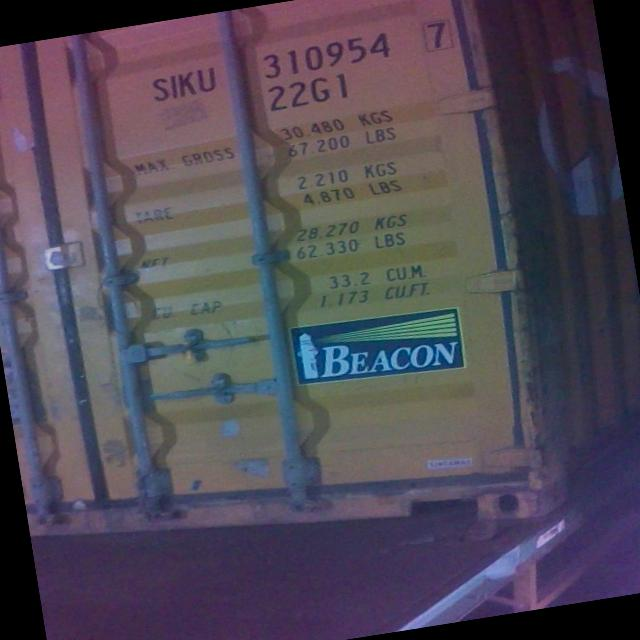seal: (177, 332, 206, 368)
